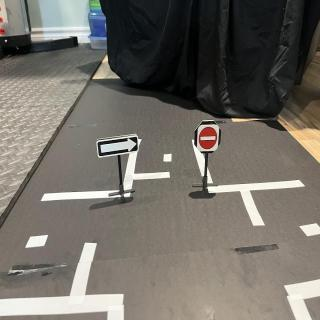sign_noentry: (198, 126, 220, 152)
sign_oneway_right: (96, 135, 142, 161)
